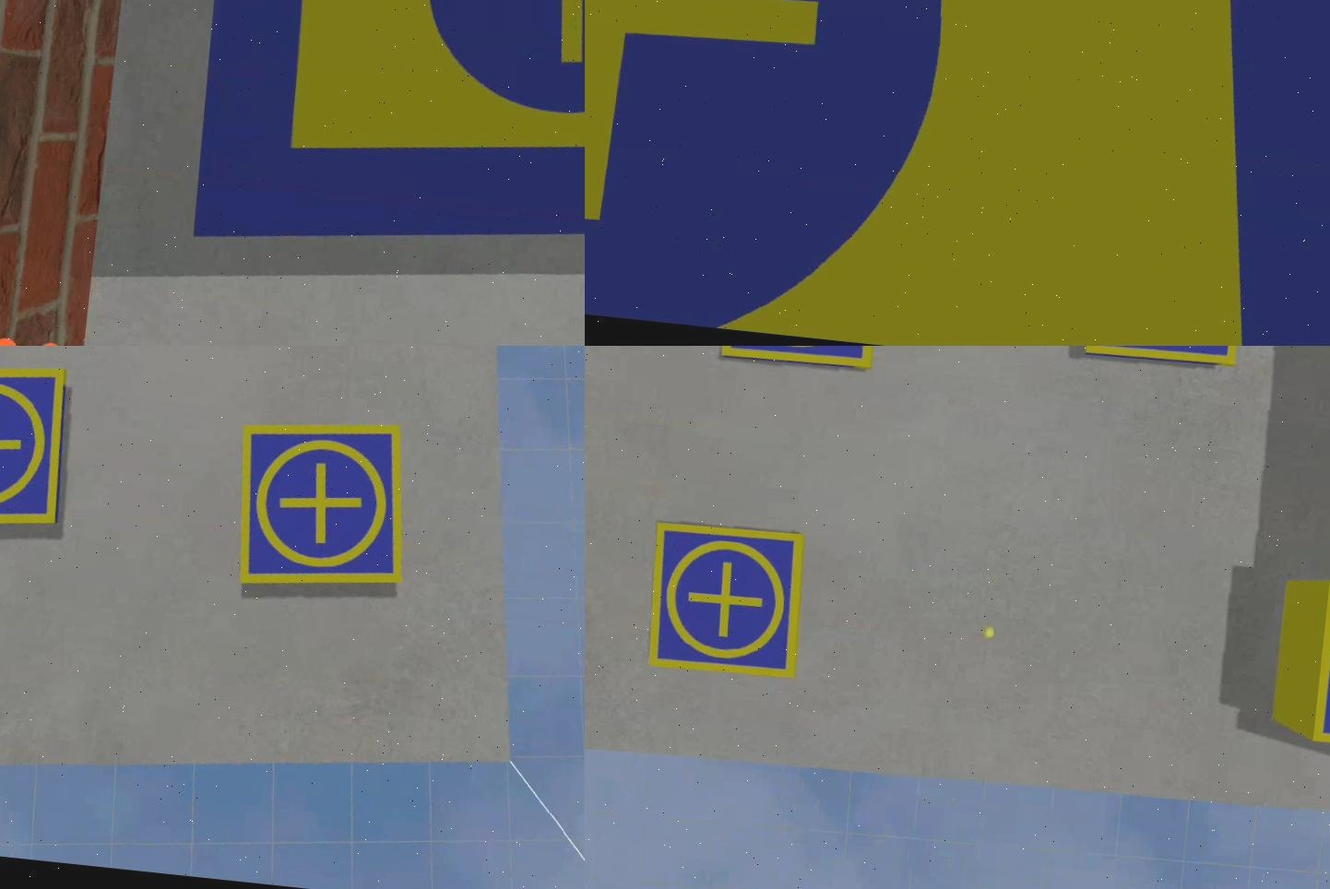large_base: (585, 1, 1330, 347), (180, 1, 585, 319)
small_base: (225, 408, 421, 608), (639, 517, 813, 684), (1, 352, 77, 546), (717, 347, 883, 374), (1082, 347, 1245, 367)
